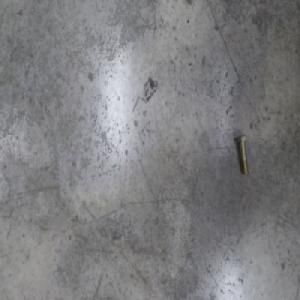Bolt: (234, 134, 248, 176)
